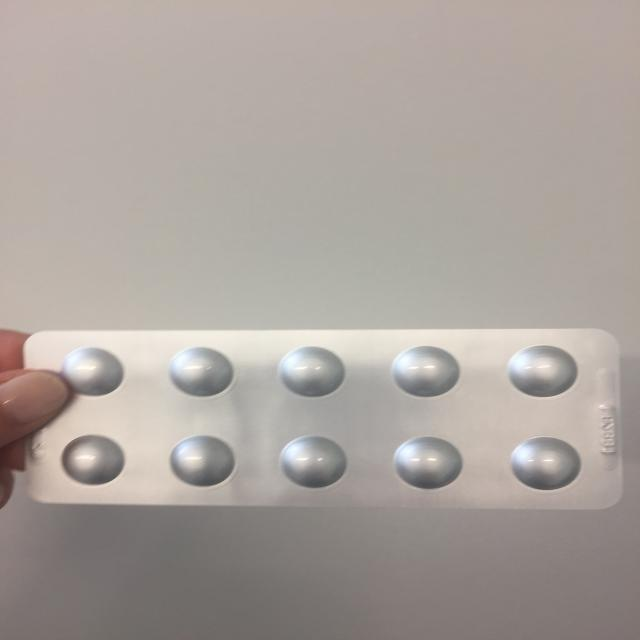Pill: (498, 343, 585, 401), (386, 435, 472, 492), (504, 435, 588, 493), (272, 434, 356, 491), (159, 343, 240, 400), (388, 343, 463, 403), (274, 345, 352, 402), (56, 430, 131, 488), (165, 434, 242, 490), (54, 344, 130, 400)
